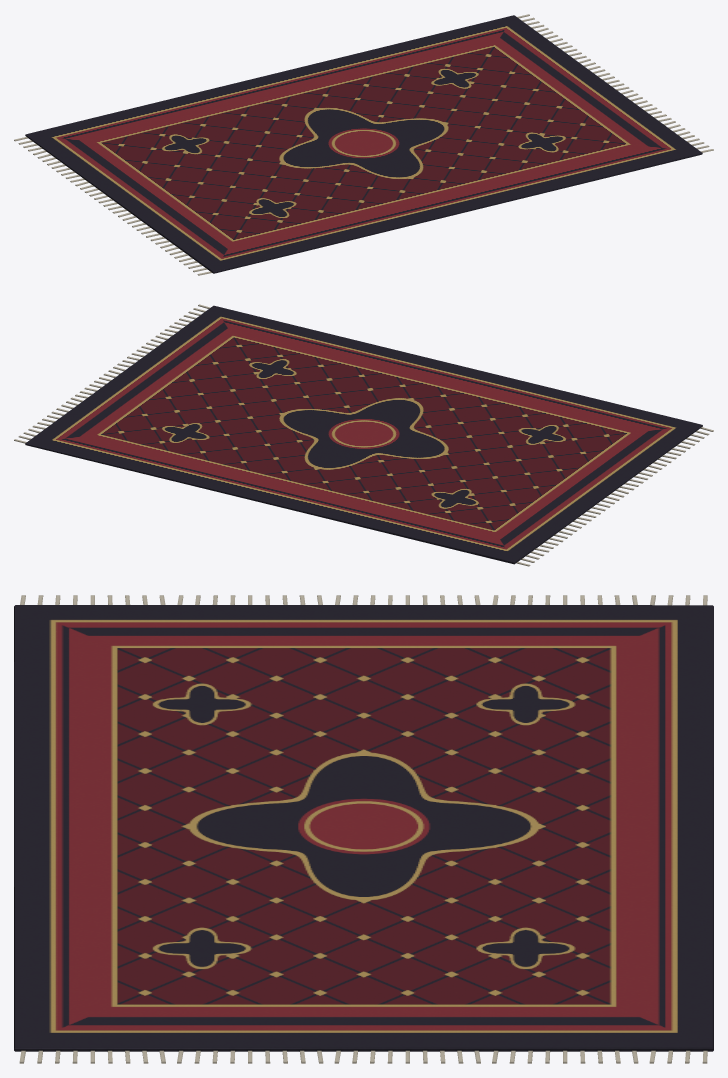
File: OfficeRug.fbx
3 renders of one model, top to bottom at view 1: azimuth 30°, elevation 25°; view 2: azimuth 150°, elevation 25°; view 3: azimuth 270°, elevation 25°, orthographic. The views are drawn at different scales.
Visible parts, largest first — view 1: OfficeRug; view 2: OfficeRug; view 3: OfficeRug.
Part boxes in pixels (bbox=[...]): OfficeRug: bbox=[14, 14, 713, 275]; OfficeRug: bbox=[14, 304, 713, 566]; OfficeRug: bbox=[14, 595, 713, 1063].
Size of the model in its own units: 1262 by 5 by 800.
